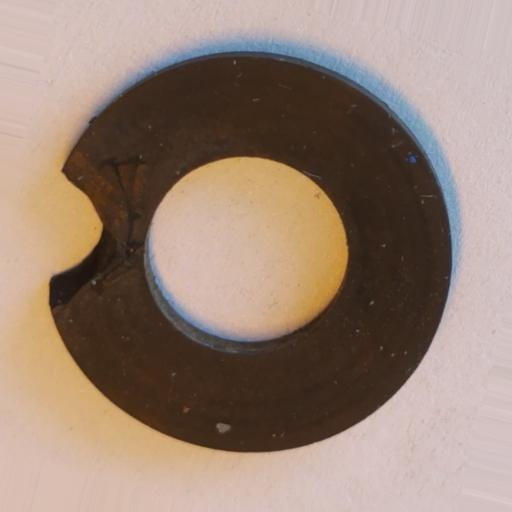defect: (51, 148, 145, 313)
